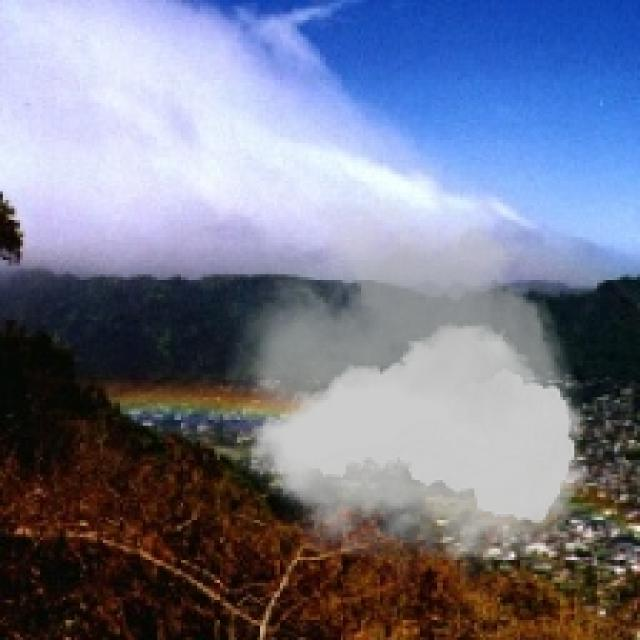smoke: (226, 177, 600, 592)
